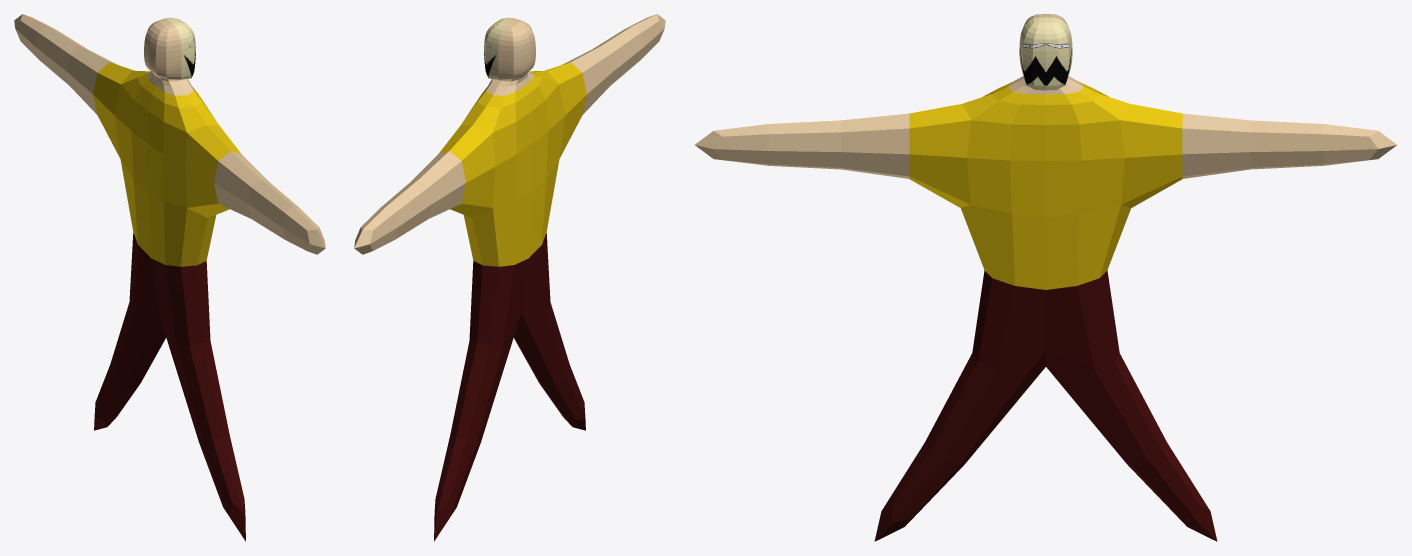
File: посетитель2.fbx
The picture shows the model from 3 angles, left to right: view 1: azimuth 30°, elevation 25°; view 2: azimuth 150°, elevation 25°; view 3: azimuth 270°, elevation 25°; orthographic projection. The views are drawn at different scales.
Parts seen in each view (by area): view 1: Cube; view 2: Cube; view 3: Cube.
Boxes of the visible parts, bbox=[...] form: Cube: bbox=[14, 14, 325, 541]; Cube: bbox=[354, 14, 665, 541]; Cube: bbox=[695, 14, 1396, 541].
Bounding box in the file's own units: 123 × 1192 × 1448.
Materials: 4 (1 with a texture image).
